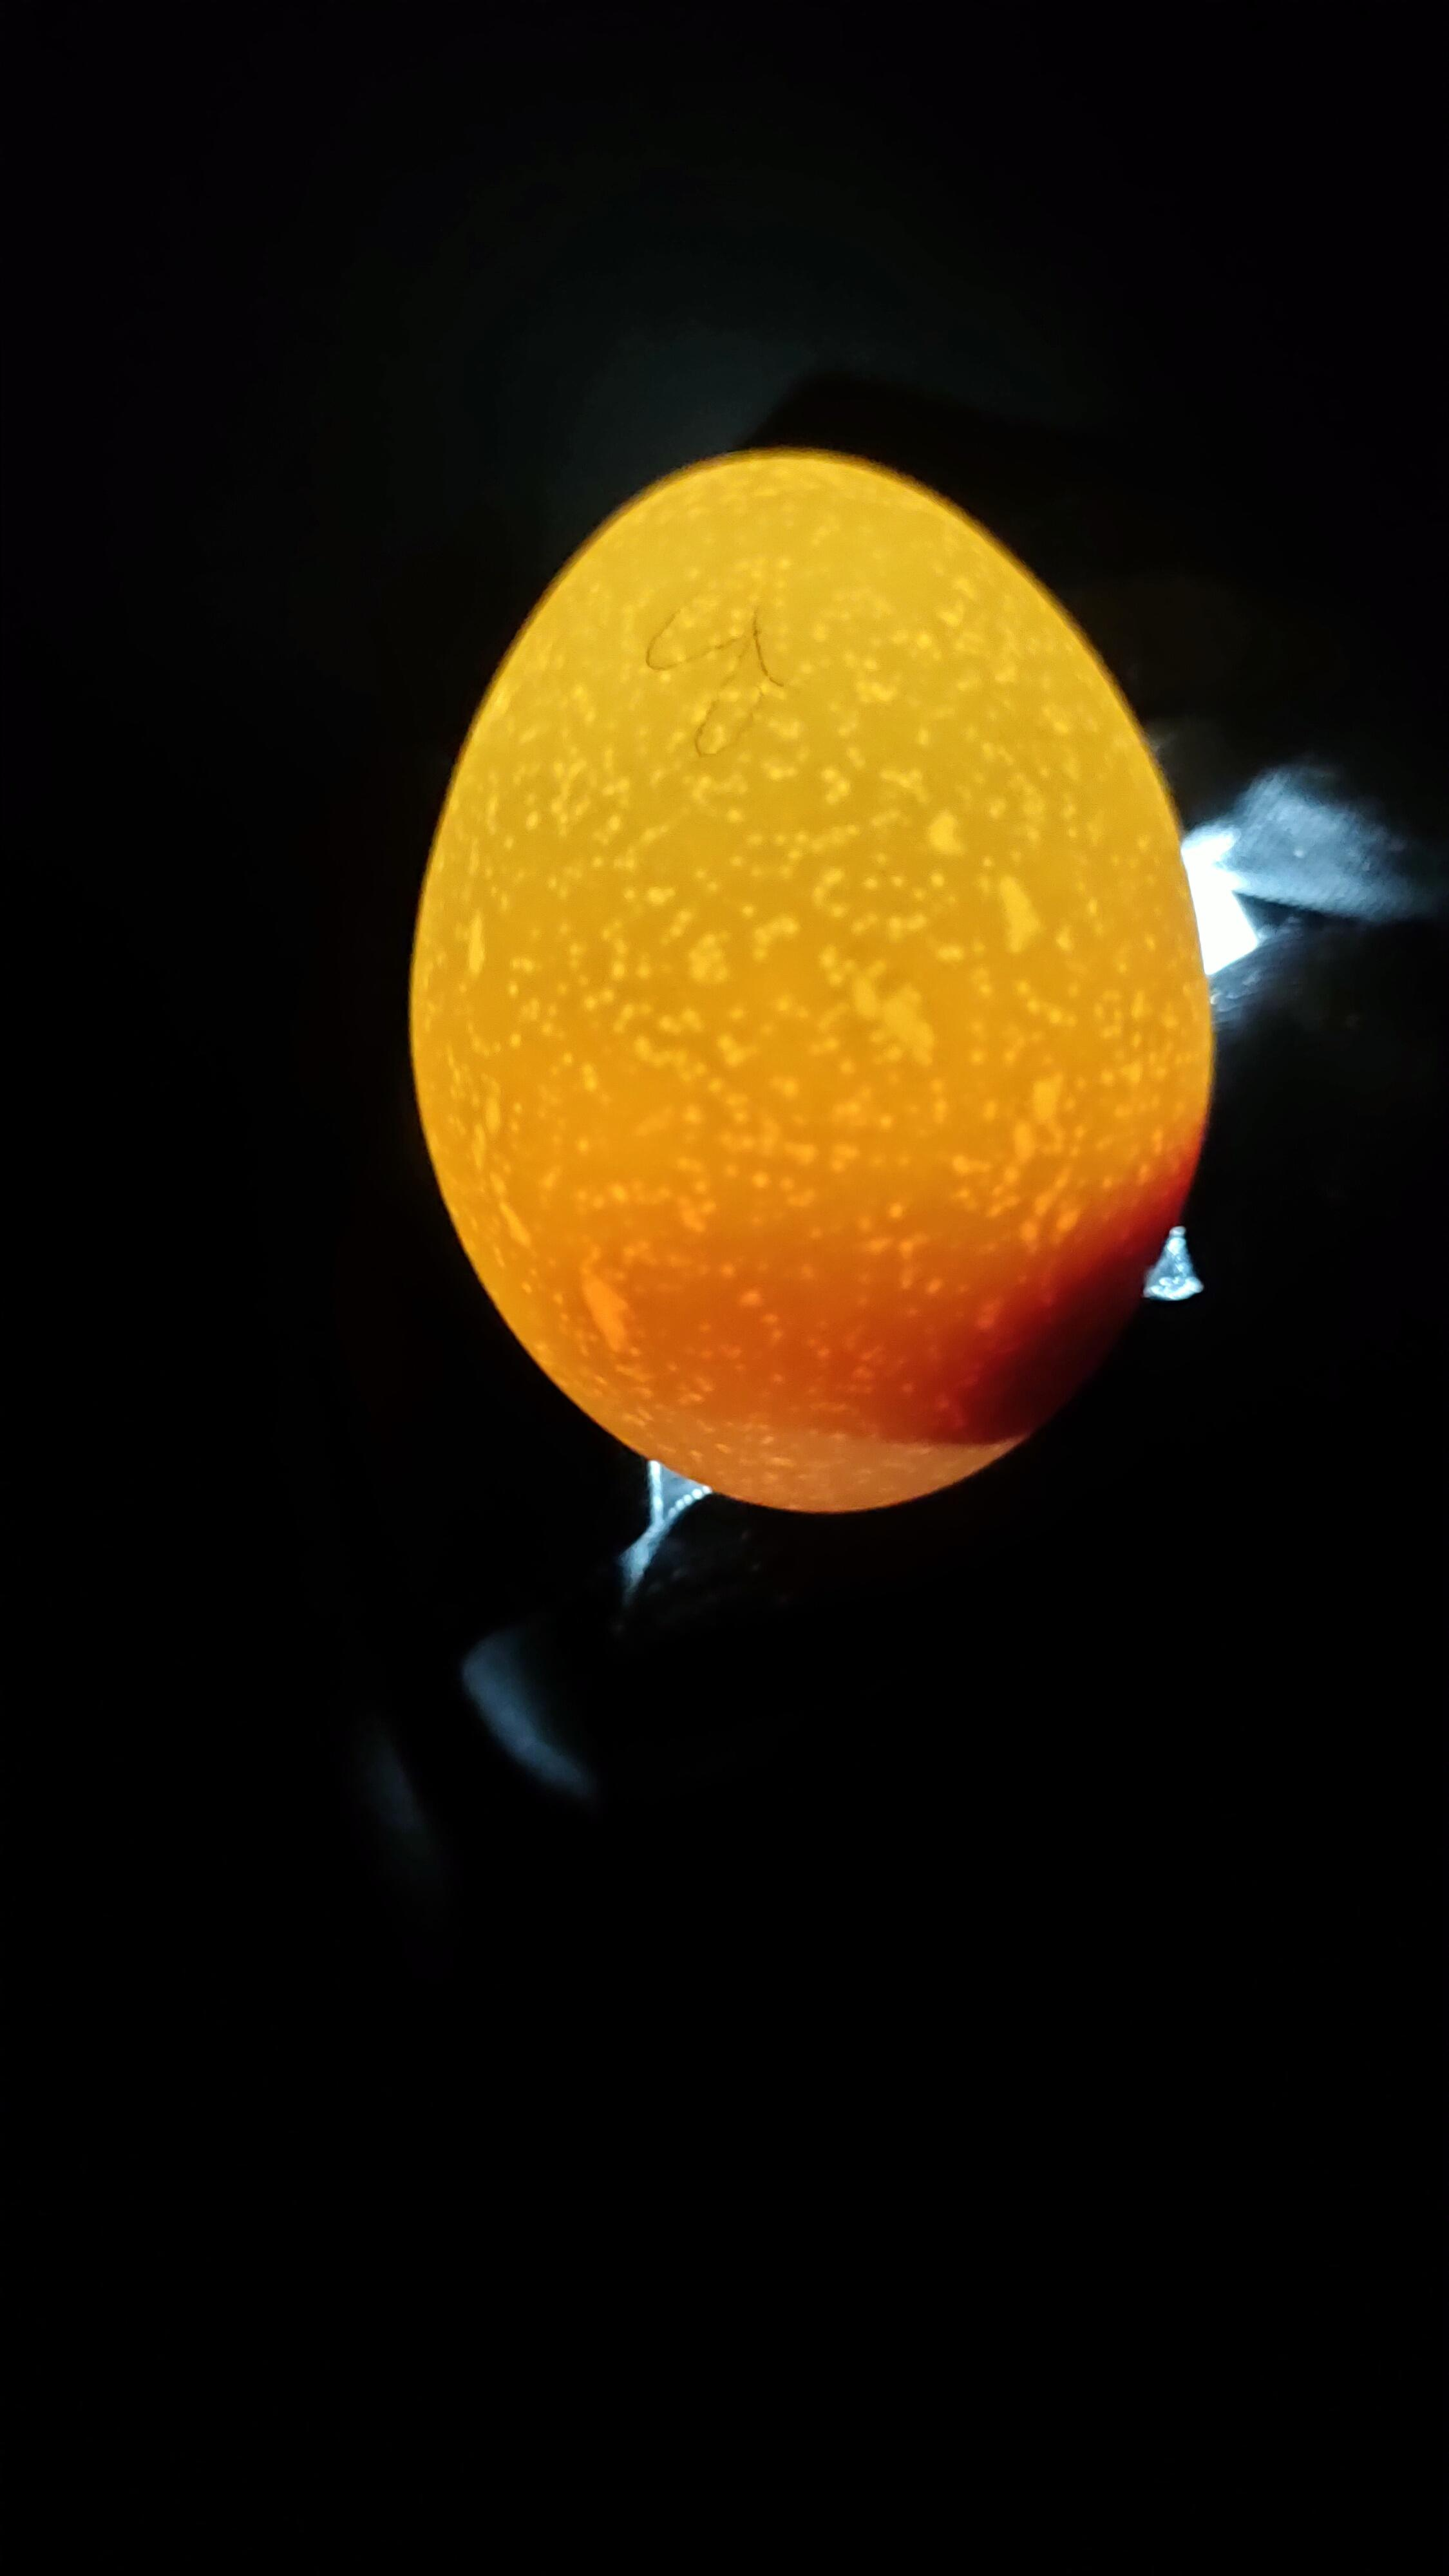AA - Premium: (393, 412, 1269, 1622)
